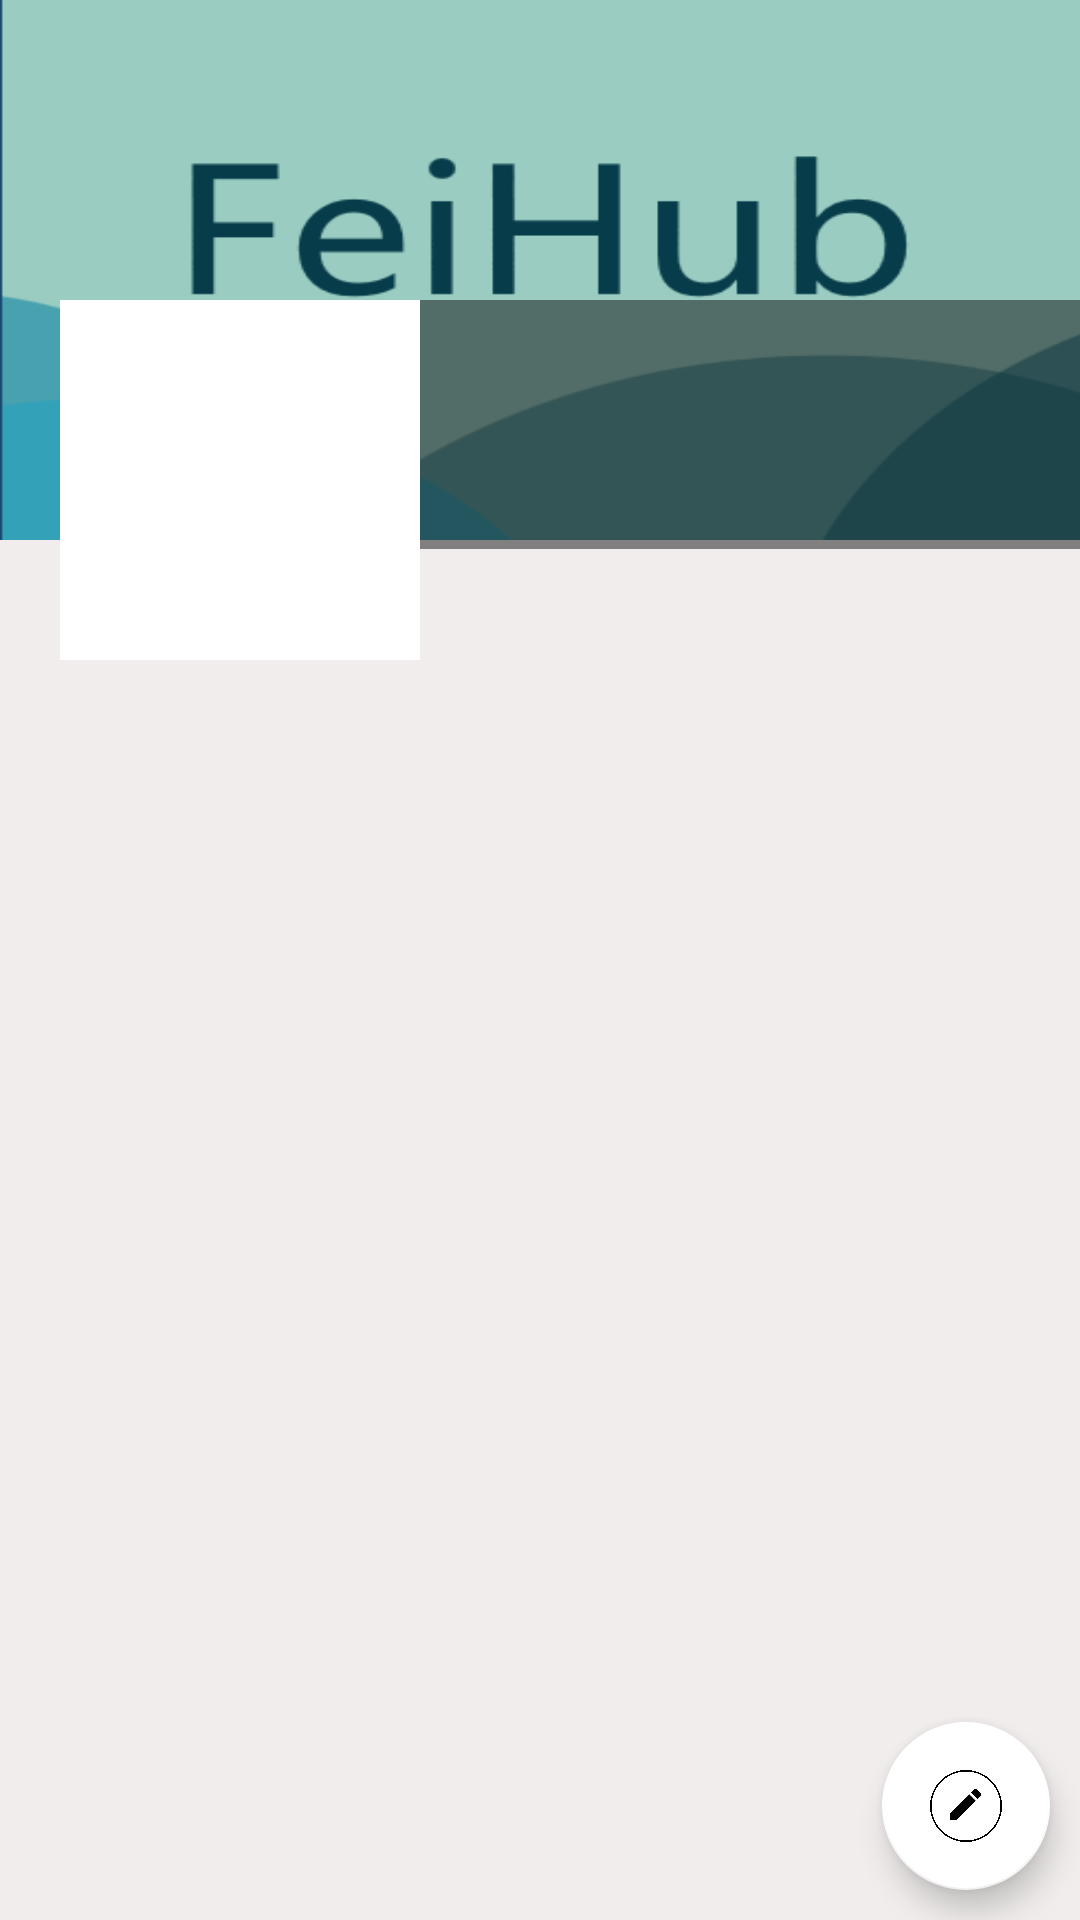

Icon bounding boxes for this 1080 × 1920 phone screenshot, format (x1, y1, x2, y2):
Editar: (882, 1722, 1050, 1890)
